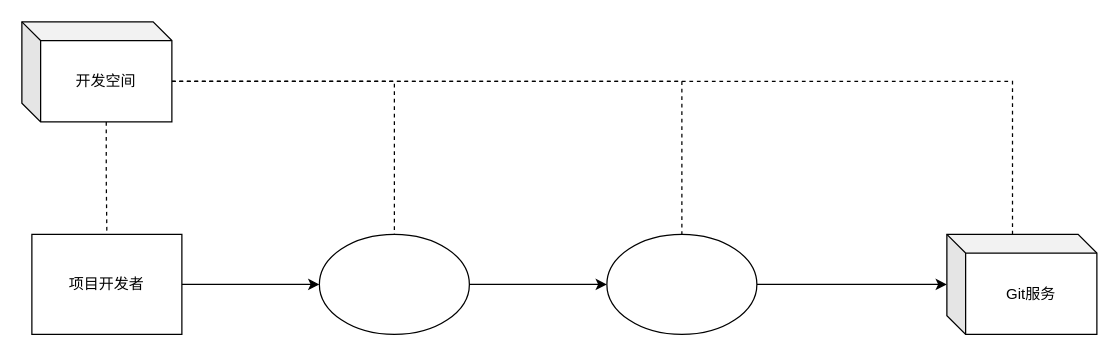
The diagram is 1119 pixels wide and 356 high, and some of its shapes have lost their labels. Each missing label, with the box of its shape:
1.GUI制作系统: (606, 233, 757, 334)
1.GUI管理系统: (318, 233, 469, 334)
